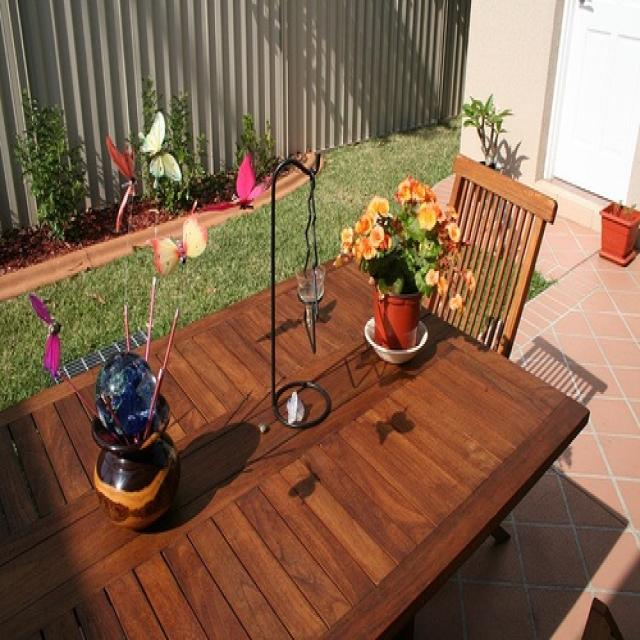chair: (426, 150, 557, 359)
diningtable: (0, 248, 590, 638)
pottedplant: (333, 177, 476, 363), (595, 198, 639, 267)
